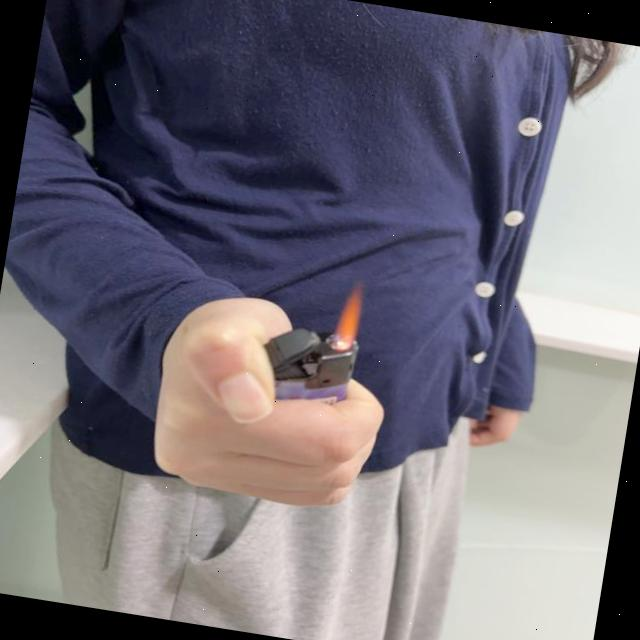fire: (328, 272, 371, 352)
